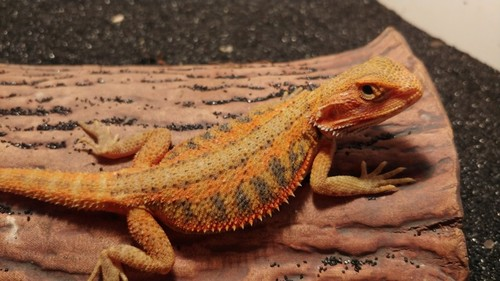bearded: (1, 55, 426, 279)
